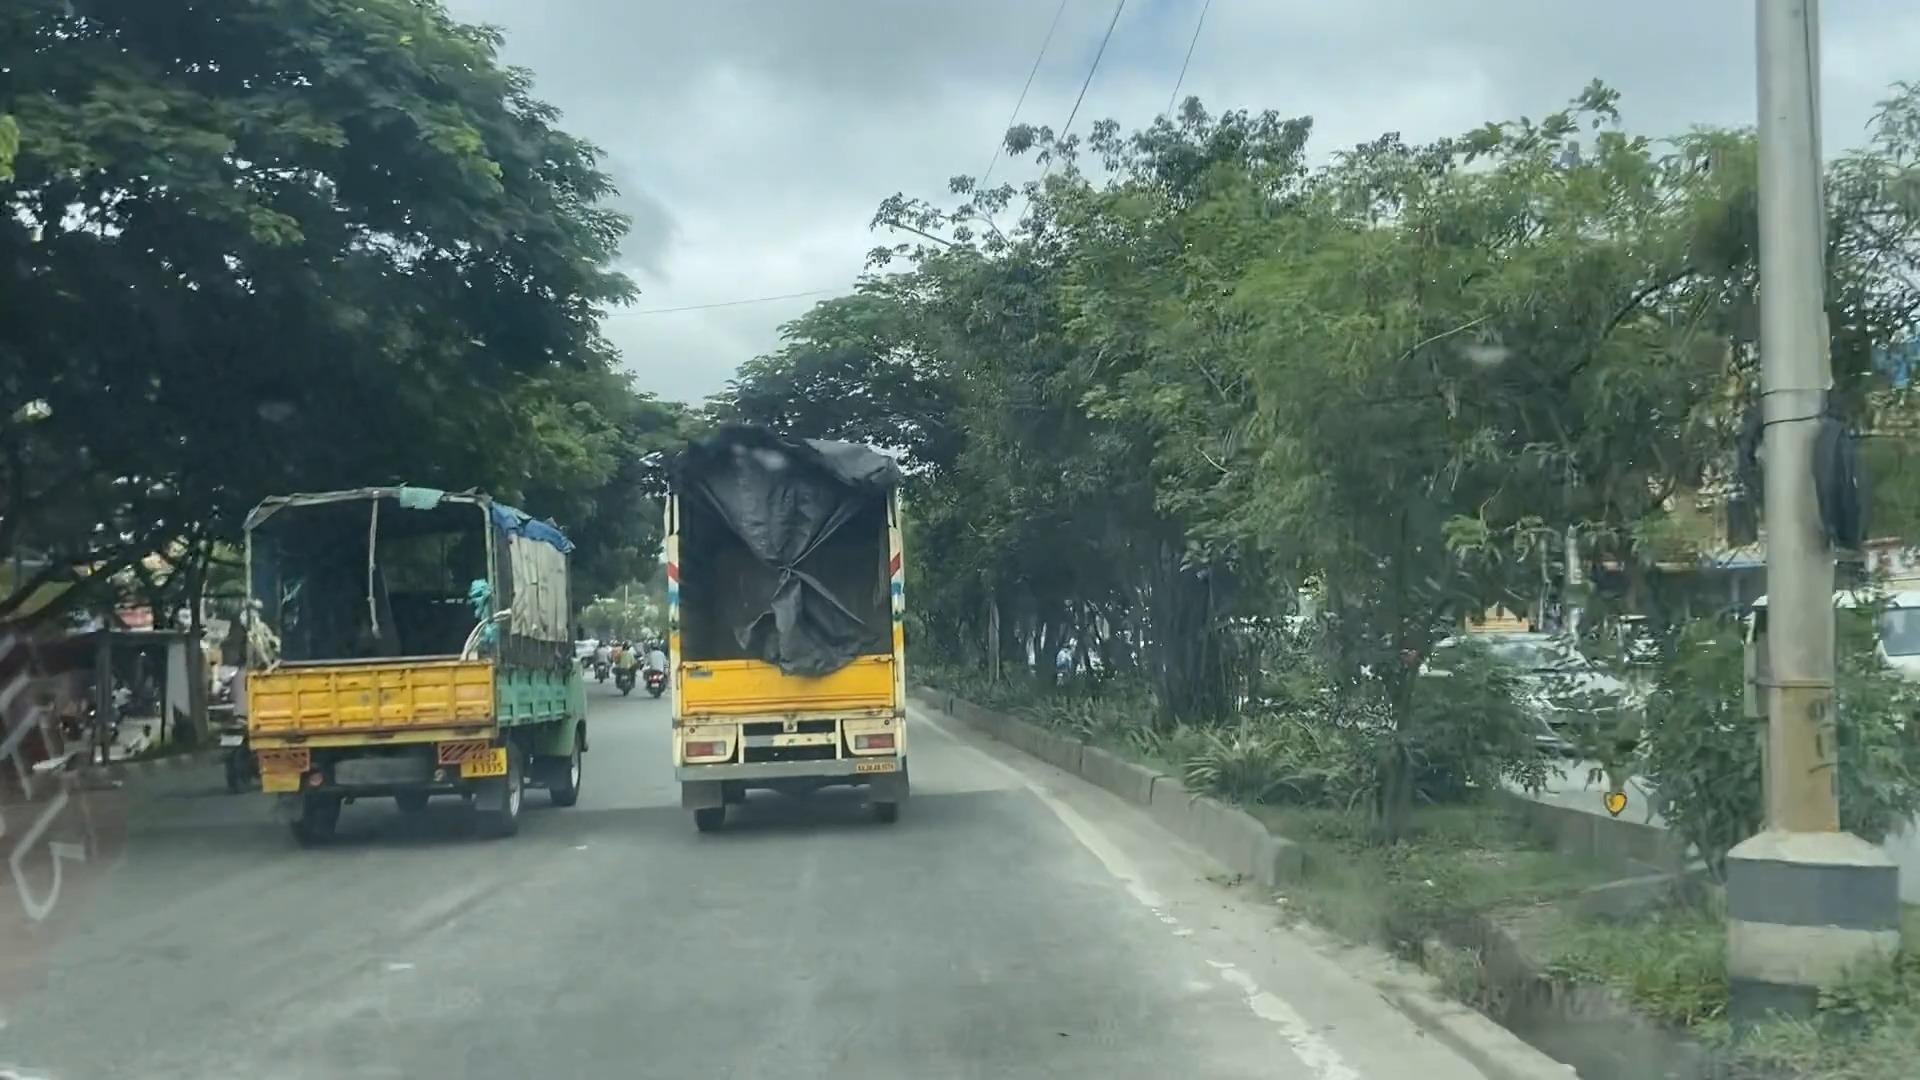HMV: (600, 376, 945, 901), (227, 459, 617, 844)
